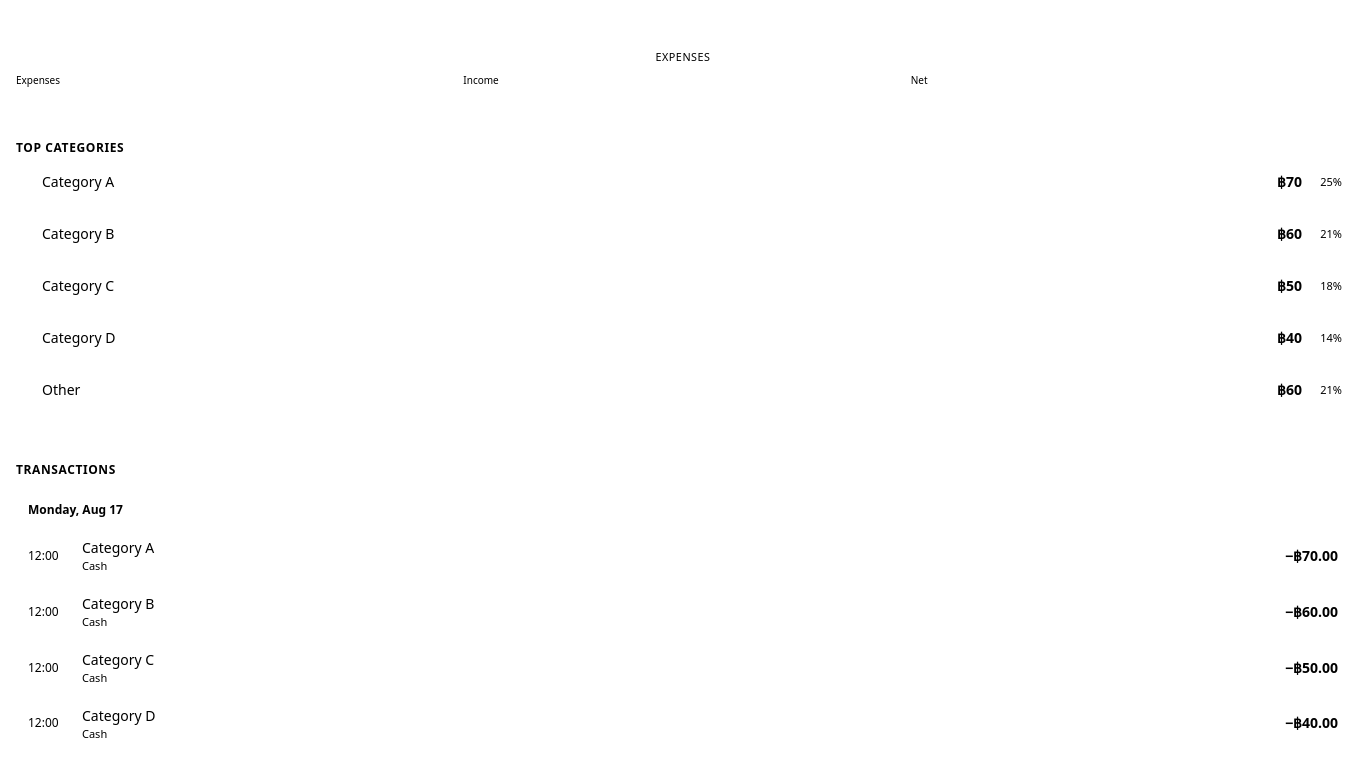
AnalyticsView › groups categories after the top four into a selectable Other row
(page scrolled)
Click the button with aria-label "Other,": (61,390) top-left (16, 372), bottom-right (1350, 420)
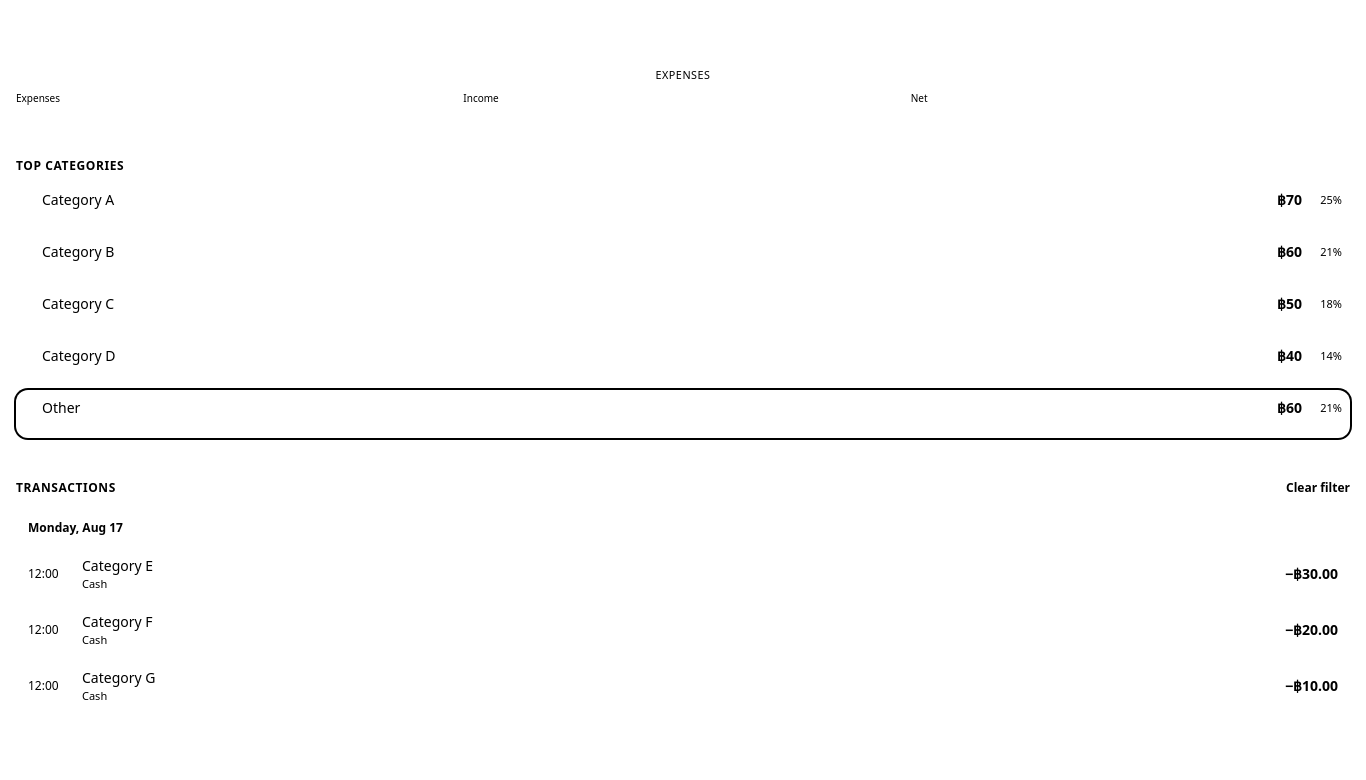
Check: the button with aria-label "expense Category E" is shown, box top-left (16, 546), bottom-right (1350, 602)
Check: the button with aria-label "expense Category F" is shown, box top-left (16, 602), bottom-right (1350, 658)
Check: the button with aria-label "expense Category G" is shown, box top-left (16, 658), bottom-right (1350, 714)
